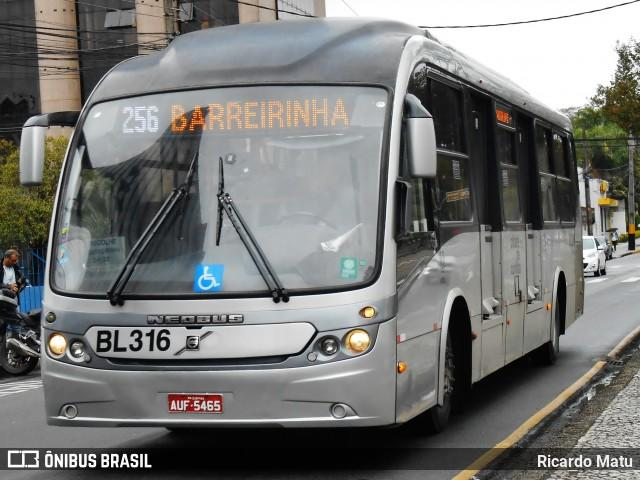BARREIRINHA: (166, 94, 351, 135)
